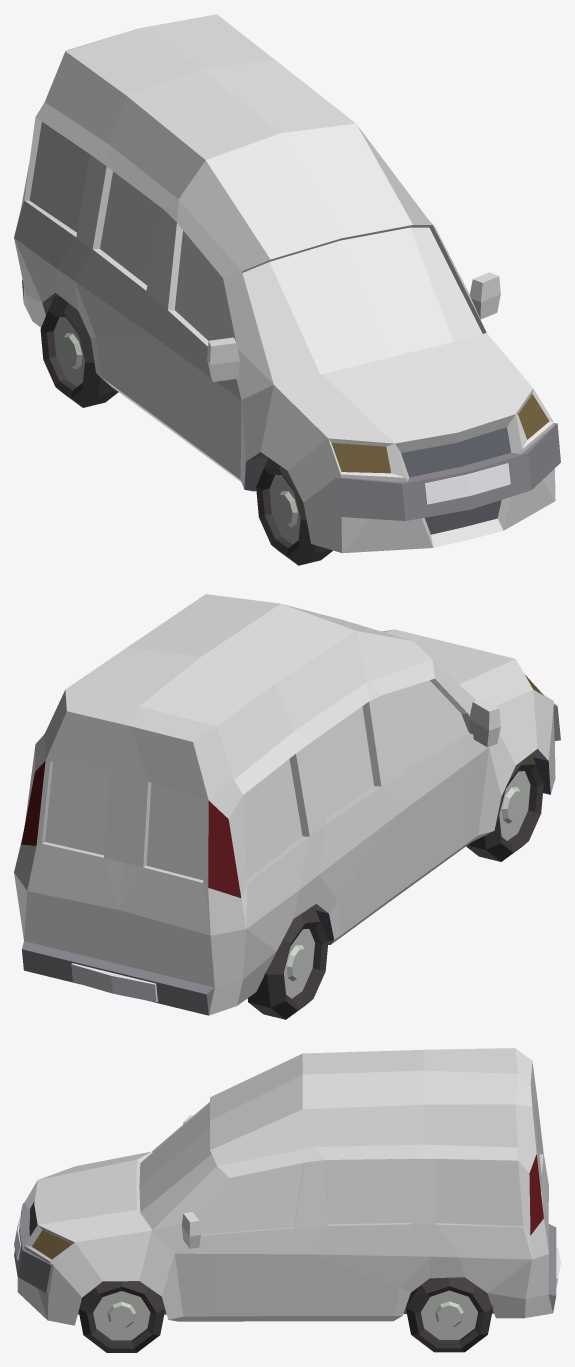
Rendered from Van_02.fbx.
3 renders of one model, top to bottom at view 1: azimuth 30°, elevation 25°; view 2: azimuth 150°, elevation 25°; view 3: azimuth 270°, elevation 25°, orthographic. The views are drawn at different scales.
Visible parts, largest first — view 1: Body, Windows, Body_Details, Wheels, Lights; view 2: Body, Windows, Wheels, Body_Details, Lights; view 3: Body, Windows, Wheels, Body_Details, Lights.
Part boxes in pixels (x1,y1,x2,y2): Body: (14,14,555,553); Windows: (29,122,482,384); Body_Details: (22,279,560,534); Wheels: (40,295,332,565); Lights: (331,394,549,473); Body: (14,594,555,1015); Windows: (45,680,468,880); Wheels: (247,753,543,1019); Body_Details: (21,703,560,1015); Lights: (21,675,543,897); Body: (17,1048,552,1325); Windows: (139,1104,523,1234); Wheels: (78,1277,493,1352); Body_Details: (14,1201,560,1314); Lights: (32,1154,543,1259).
Bounding box in the file's own units: 2.21 × 2.29 × 4.72.
